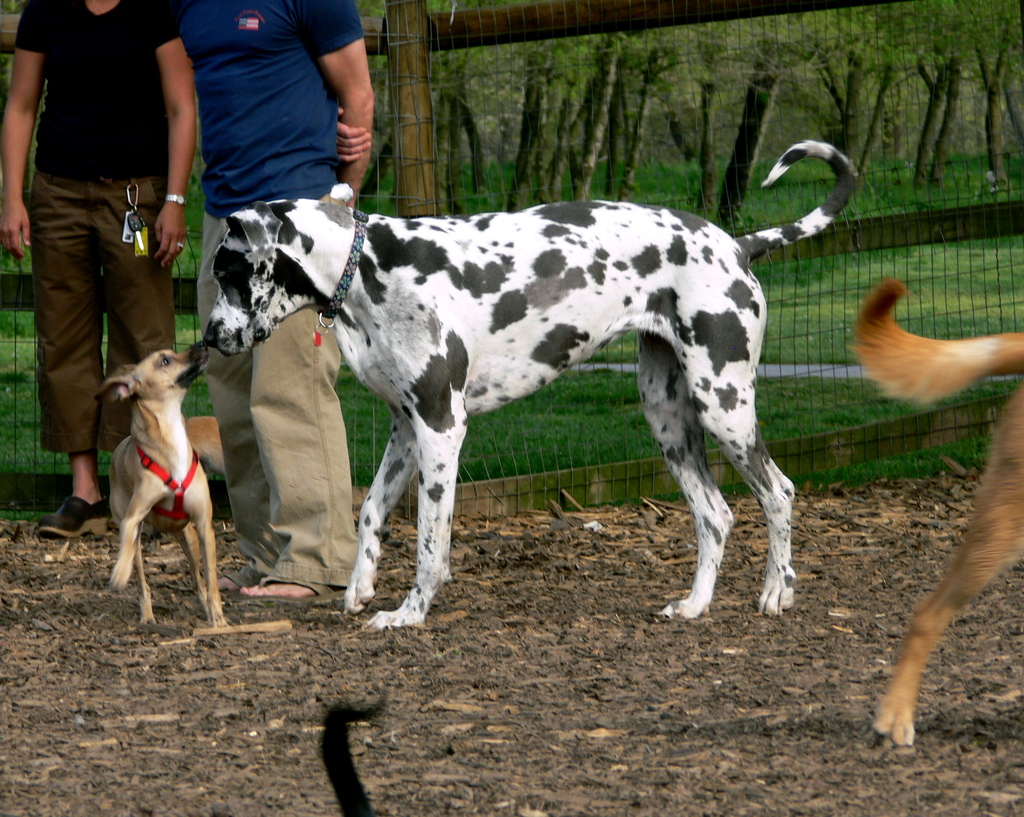Person: (178, 0, 374, 603), (0, 0, 196, 536)
